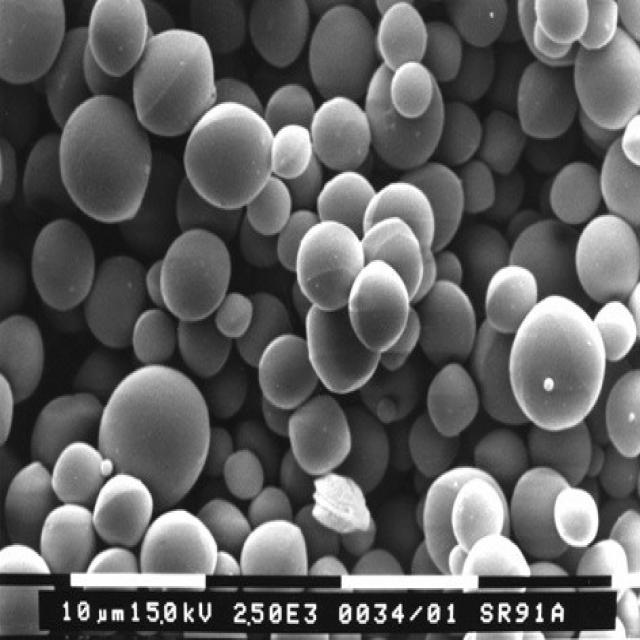cells: (95, 359, 214, 510), (502, 291, 614, 436), (53, 90, 158, 224), (184, 101, 278, 217), (128, 30, 218, 137), (423, 468, 509, 578), (369, 55, 445, 173), (29, 209, 101, 322), (572, 20, 640, 128), (292, 219, 366, 316), (162, 225, 232, 326), (306, 2, 376, 101), (307, 86, 376, 182), (345, 255, 410, 356), (282, 394, 357, 481), (86, 251, 152, 349), (574, 211, 640, 307), (17, 122, 79, 222), (33, 393, 106, 476), (258, 327, 325, 417), (516, 54, 584, 142), (361, 178, 440, 252), (525, 416, 607, 486), (423, 357, 486, 448), (513, 466, 573, 561), (2, 0, 68, 86), (361, 217, 429, 300), (89, 468, 154, 554), (83, 2, 151, 83), (3, 461, 64, 549), (142, 508, 216, 578), (449, 476, 512, 558), (546, 153, 610, 233), (47, 434, 111, 513), (418, 279, 478, 362), (509, 226, 577, 296), (249, 0, 317, 70), (348, 393, 390, 502), (36, 500, 99, 572), (0, 312, 49, 404), (407, 407, 466, 481), (467, 425, 534, 486), (310, 470, 372, 534), (551, 481, 603, 554), (201, 358, 255, 428), (445, 0, 518, 51), (603, 363, 640, 463), (243, 520, 309, 574), (317, 173, 376, 233), (195, 494, 252, 556), (179, 315, 235, 378), (484, 266, 540, 329), (379, 1, 432, 66), (487, 99, 532, 173), (218, 446, 270, 509), (440, 100, 489, 162), (128, 308, 180, 365), (390, 58, 436, 121), (211, 283, 257, 345), (247, 179, 292, 238), (458, 156, 500, 217), (433, 251, 467, 295), (374, 391, 398, 427)
